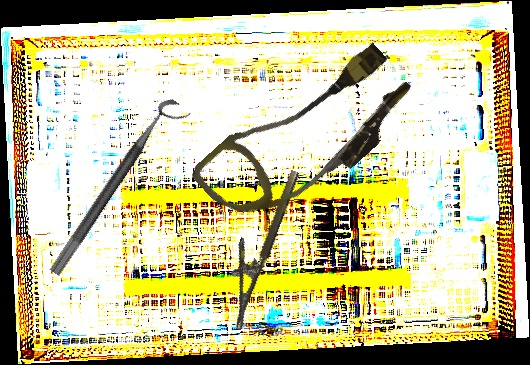Cannula: (188, 22, 426, 252)
Fixation Ring: (48, 94, 192, 287)
Needle Holder: (209, 161, 302, 331)
